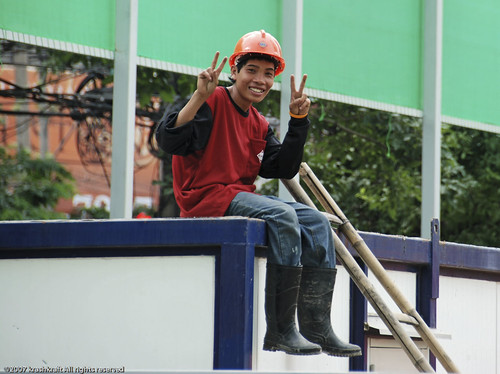person hardhat: (158, 29, 371, 365)
